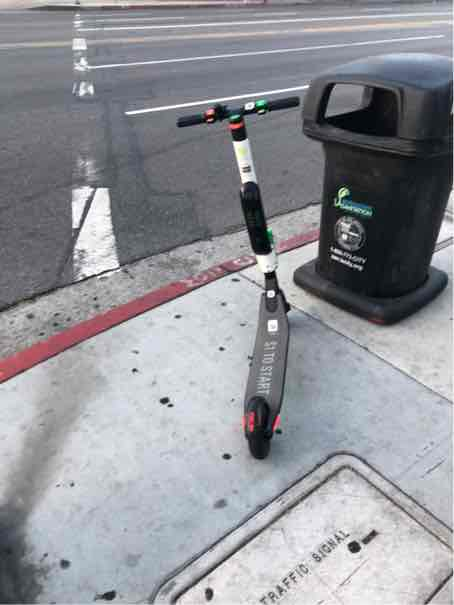scooter: (159, 87, 324, 472)
